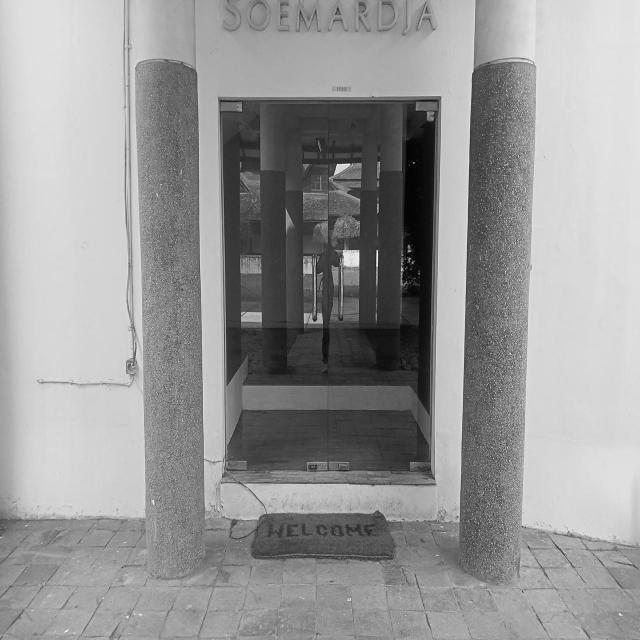door: (219, 96, 442, 486)
